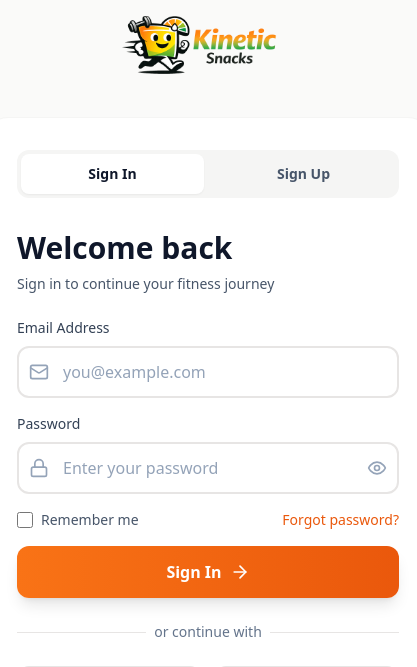
Test: Auth › shows validation errors when fields are empty
The width and height of the screenshot is (417, 667).
Click the button "Sign In" below "Remember me" at [208, 572], box [17,546,399,598]
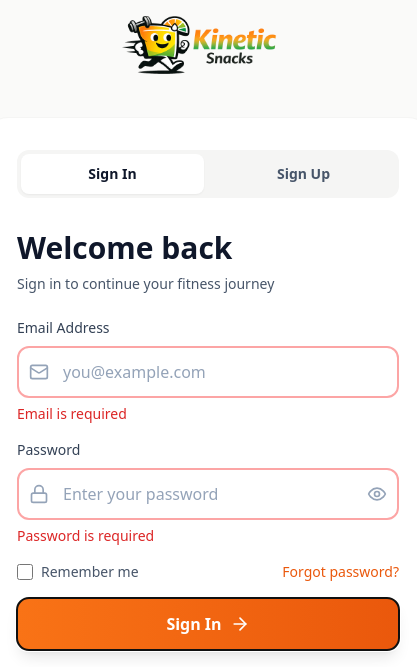
Expected: the text "Email is required" is shown, [17,404,127,423]
Expected: the text "Password is required" is shown, [17,526,154,545]
